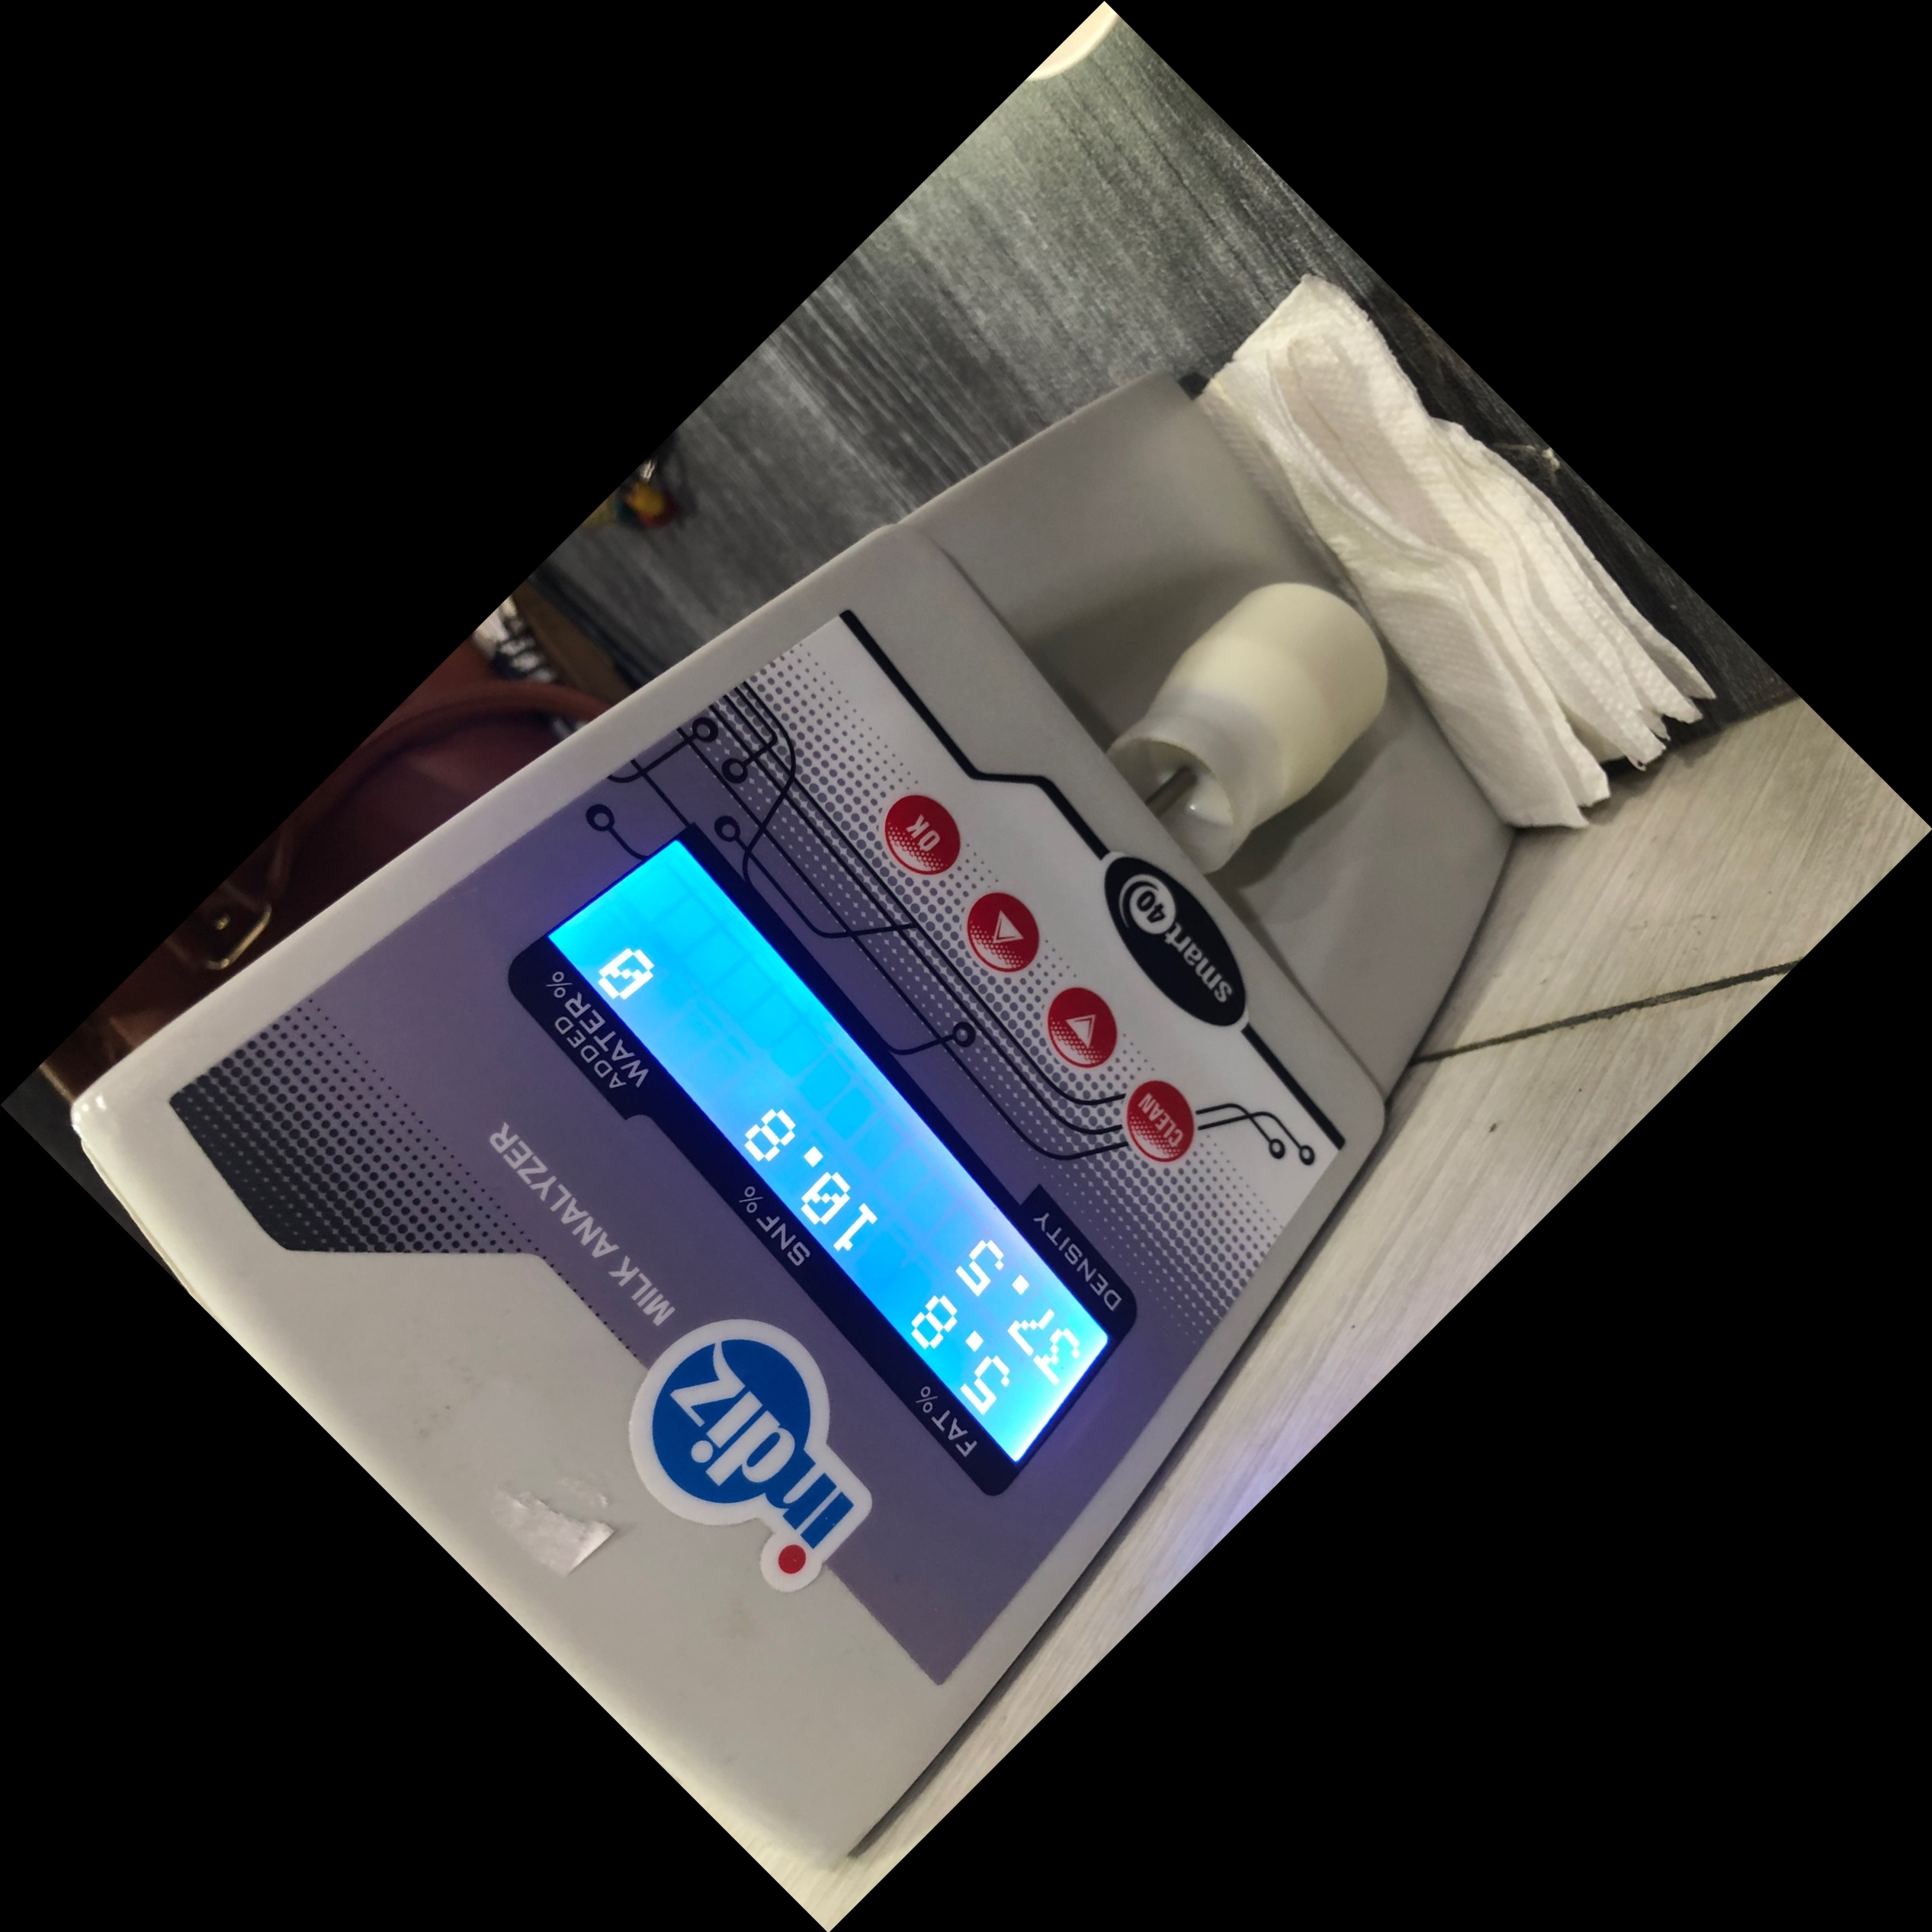lcd: (497, 837, 1164, 1537)
